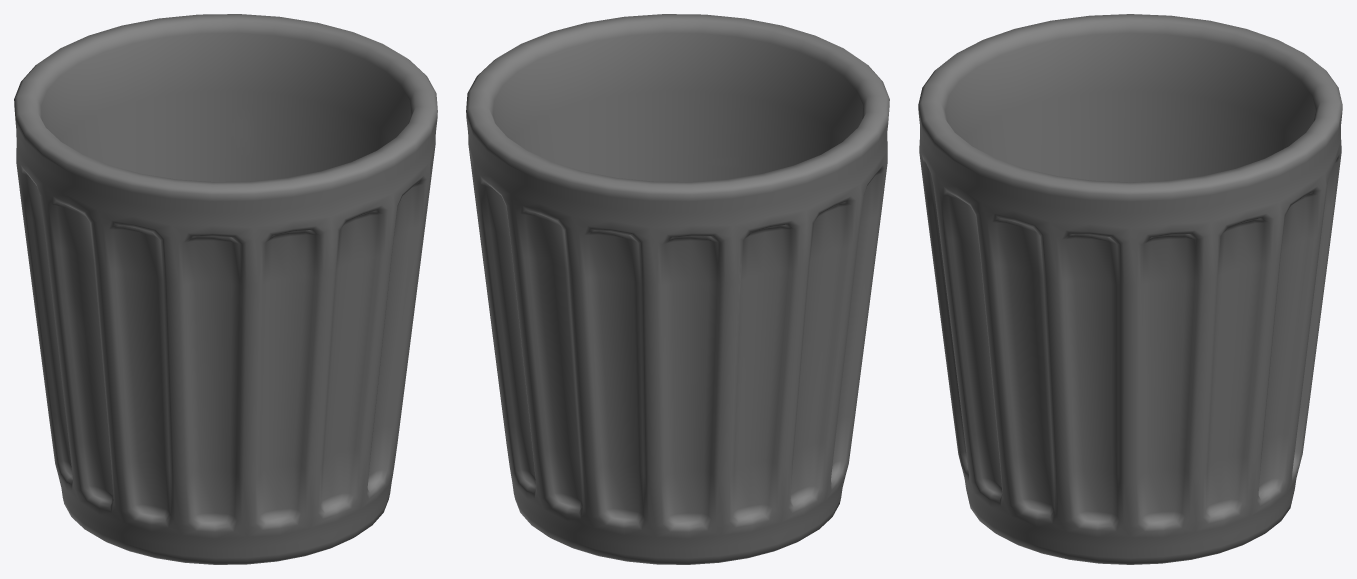
File: Cubo basura.fbx
3 renders of one model, left to right at view 1: azimuth 30°, elevation 25°; view 2: azimuth 150°, elevation 25°; view 3: azimuth 270°, elevation 25°, orthographic.
Parts seen in each view (by area): view 1: Cylinder; view 2: Cylinder; view 3: Cylinder.
Part boxes in pixels (x1=…): Cylinder: x1=14, y1=14, x2=437, y2=564; Cylinder: x1=466, y1=14, x2=889, y2=564; Cylinder: x1=918, y1=14, x2=1342, y2=564.
Bounding box in the file's own units: 795 × 822 × 795.
